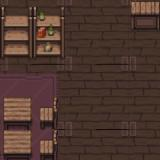Obstacle: (33, 0, 66, 65), (0, 0, 33, 65), (0, 97, 33, 130), (33, 97, 64, 130), (128, 0, 160, 31), (0, 130, 33, 160), (33, 130, 64, 160)
